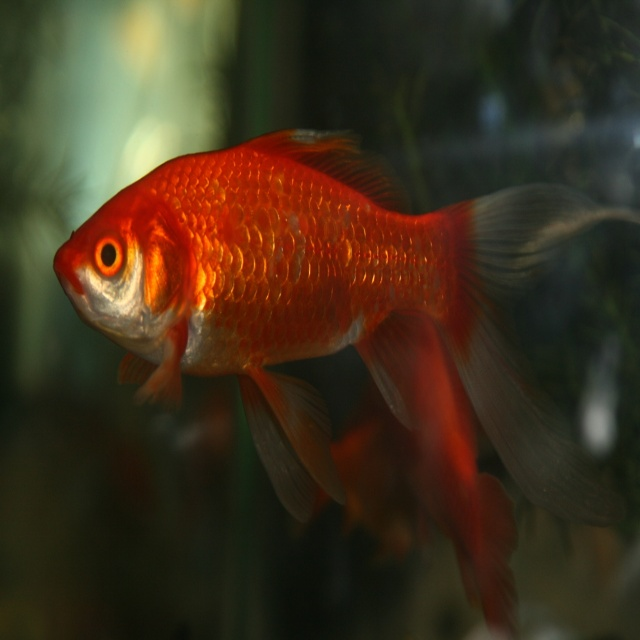Goldfish: (52, 122, 590, 605)
